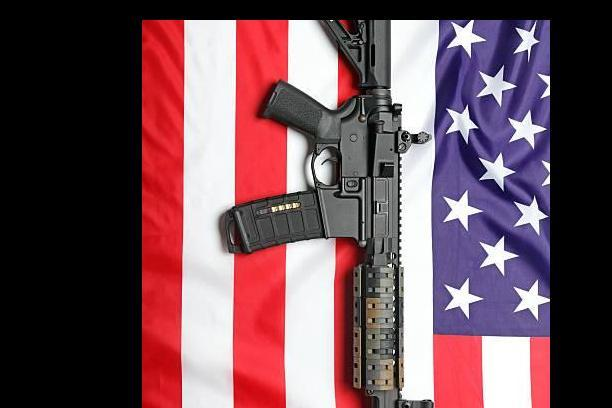larga: (224, 20, 432, 408)
